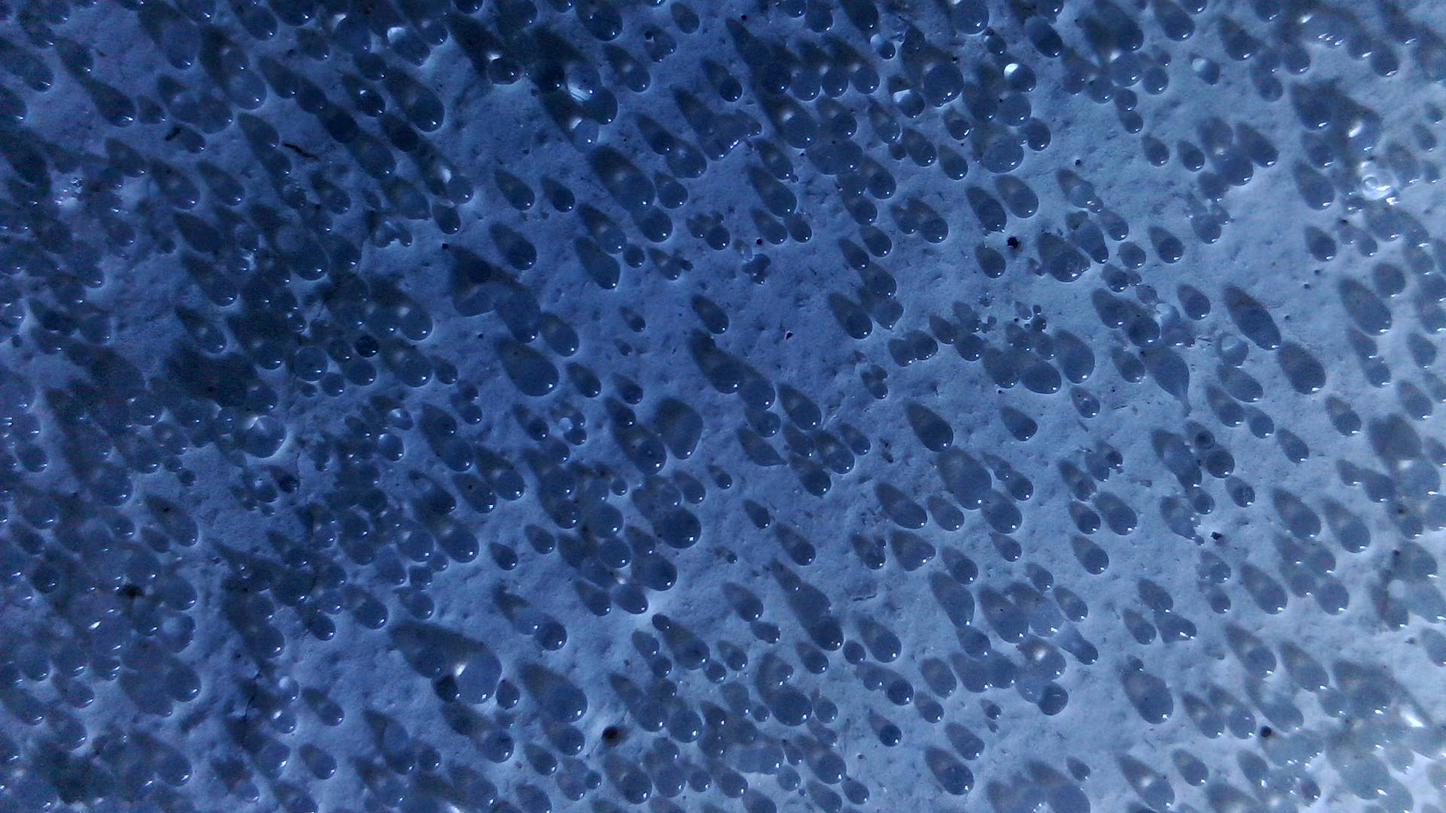GlassBeadSeg: (517, 358, 559, 396), (953, 467, 991, 507), (925, 66, 962, 105), (246, 419, 283, 458), (663, 512, 701, 549), (550, 687, 585, 722), (461, 668, 496, 703), (619, 176, 656, 209), (954, 0, 988, 35), (987, 140, 1023, 173), (443, 531, 480, 563), (96, 473, 132, 505), (633, 440, 667, 473), (409, 100, 444, 132), (233, 76, 268, 108), (785, 114, 817, 149), (404, 531, 438, 563), (1357, 767, 1389, 800), (278, 573, 311, 605), (294, 248, 328, 279), (1052, 251, 1086, 282), (1027, 364, 1062, 394), (990, 502, 1022, 534), (1141, 691, 1173, 723), (1410, 468, 1442, 500), (1361, 303, 1392, 336), (1063, 349, 1094, 382), (777, 695, 811, 725), (545, 470, 577, 501), (402, 309, 433, 340), (363, 148, 395, 178), (590, 11, 622, 41), (587, 94, 619, 124), (445, 443, 476, 473), (169, 671, 200, 701), (998, 611, 1028, 642), (400, 356, 432, 385), (592, 507, 624, 536), (294, 349, 326, 378), (672, 151, 706, 178), (1295, 364, 1325, 394), (1112, 57, 1142, 87), (1031, 605, 1061, 635), (254, 629, 285, 658), (922, 423, 953, 452), (600, 541, 631, 570), (670, 712, 701, 741), (1222, 157, 1253, 186), (678, 639, 709, 668), (358, 601, 389, 629), (129, 556, 160, 584), (895, 502, 927, 529), (1341, 524, 1370, 553), (944, 766, 973, 795), (816, 755, 845, 784), (162, 757, 191, 786), (416, 648, 445, 677), (484, 733, 514, 761), (26, 501, 56, 529), (260, 745, 288, 775), (255, 342, 286, 369), (25, 785, 56, 812), (97, 627, 128, 654), (551, 328, 580, 356), (792, 403, 821, 431), (536, 65, 565, 93), (831, 144, 860, 172), (762, 65, 791, 93), (850, 2, 879, 30), (4, 383, 33, 411), (166, 583, 196, 610), (642, 215, 673, 241), (744, 382, 775, 408), (1130, 318, 1158, 346), (1306, 181, 1334, 209), (1320, 586, 1348, 614), (1003, 96, 1031, 124), (508, 0, 536, 28), (508, 242, 537, 269), (538, 623, 567, 650), (623, 775, 652, 802), (249, 13, 278, 40), (209, 280, 239, 306), (980, 203, 1006, 233), (948, 598, 974, 628), (714, 367, 742, 394), (1011, 190, 1039, 217), (593, 261, 620, 289), (1258, 587, 1286, 614), (873, 634, 901, 661), (669, 432, 697, 459), (794, 72, 822, 99), (370, 307, 398, 334), (1165, 15, 1194, 41), (1226, 34, 1255, 60), (1009, 67, 1038, 93), (649, 563, 676, 590), (134, 447, 162, 473), (445, 178, 473, 204), (491, 59, 519, 85), (132, 398, 160, 424), (1036, 653, 1064, 679), (171, 184, 200, 209), (57, 649, 86, 674), (167, 44, 196, 69), (499, 473, 526, 499), (436, 208, 462, 235), (1292, 513, 1319, 539), (621, 588, 648, 614), (964, 666, 990, 693), (816, 623, 842, 650), (33, 568, 59, 595), (1040, 688, 1066, 715), (471, 781, 497, 808), (807, 8, 833, 35), (1414, 557, 1439, 585), (558, 729, 584, 755), (805, 471, 831, 497), (85, 318, 111, 344), (554, 504, 581, 529), (660, 769, 685, 796), (1251, 650, 1276, 677), (1148, 781, 1173, 808), (1384, 603, 1409, 630), (1326, 691, 1351, 718), (1278, 705, 1303, 732), (1313, 548, 1338, 575), (1361, 691, 1386, 718), (108, 102, 136, 126), (1250, 325, 1279, 348), (770, 190, 796, 215), (410, 594, 435, 620), (509, 186, 535, 211), (870, 173, 895, 199), (1111, 509, 1137, 534), (830, 114, 856, 139), (201, 328, 227, 353), (640, 706, 666, 731), (803, 595, 828, 621), (624, 68, 650, 93), (994, 361, 1018, 388), (1303, 105, 1330, 129), (1231, 711, 1255, 738), (181, 403, 208, 427), (85, 437, 112, 461), (828, 448, 853, 473), (938, 506, 963, 531), (1374, 53, 1399, 78), (1039, 33, 1064, 58), (350, 361, 376, 385), (1207, 453, 1233, 477), (661, 184, 687, 208), (855, 67, 879, 93), (26, 654, 50, 680), (332, 116, 358, 140), (993, 661, 1016, 688), (252, 128, 279, 151), (791, 542, 816, 566), (871, 273, 896, 297), (847, 314, 871, 339), (471, 489, 496, 513), (754, 413, 779, 437), (362, 57, 387, 81), (1144, 70, 1168, 95), (252, 388, 276, 413), (62, 723, 86, 748), (249, 598, 274, 622), (224, 50, 249, 74), (904, 544, 929, 568), (218, 183, 244, 206), (68, 53, 94, 76), (208, 105, 234, 128), (0, 101, 26, 124), (1159, 239, 1183, 263), (24, 449, 48, 473), (302, 89, 326, 113), (1285, 49, 1309, 73), (1261, 78, 1285, 102), (1348, 34, 1372, 58), (1258, 49, 1282, 73), (1395, 22, 1419, 46), (1257, 0, 1281, 24), (584, 482, 608, 506), (1085, 549, 1108, 574), (953, 561, 978, 584), (588, 592, 613, 615), (311, 616, 336, 639), (922, 219, 947, 242), (1252, 144, 1277, 167), (245, 285, 270, 308), (1070, 183, 1095, 206), (516, 610, 541, 633), (408, 566, 433, 589), (313, 755, 337, 778), (944, 156, 968, 179), (362, 93, 385, 117), (1012, 418, 1036, 441), (1187, 296, 1210, 320), (336, 245, 359, 269), (328, 190, 351, 214), (877, 303, 900, 327), (965, 632, 988, 656), (889, 681, 912, 705), (23, 702, 47, 725), (1201, 715, 1225, 738), (1303, 667, 1326, 691), (197, 231, 221, 254), (381, 784, 404, 808), (438, 677, 461, 701), (287, 0, 310, 24), (349, 31, 372, 55), (1027, 126, 1049, 151), (0, 251, 25, 273), (1122, 359, 1145, 382), (1123, 246, 1146, 269), (1198, 220, 1221, 243), (960, 338, 983, 361), (933, 672, 956, 695), (276, 291, 299, 314), (426, 24, 449, 47), (515, 320, 538, 343), (1078, 511, 1100, 535), (578, 375, 602, 397), (1011, 477, 1033, 501), (273, 711, 297, 733), (1185, 762, 1207, 786), (1203, 176, 1225, 200), (1338, 413, 1360, 437), (62, 285, 86, 307), (722, 775, 746, 797), (2, 305, 26, 327), (706, 138, 728, 162), (1283, 544, 1307, 566), (227, 254, 252, 275), (552, 189, 575, 211), (1252, 416, 1274, 439), (1310, 145, 1333, 167), (269, 154, 291, 177), (177, 523, 199, 546), (384, 563, 407, 585), (826, 72, 848, 95), (1368, 480, 1390, 503), (32, 28, 55, 50), (31, 69, 53, 92), (48, 1, 70, 24), (604, 230, 627, 252), (653, 132, 675, 155), (697, 111, 719, 134), (1411, 253, 1434, 275), (1423, 282, 1446, 304), (1423, 310, 1446, 332), (352, 544, 375, 566), (346, 516, 369, 538), (90, 534, 112, 557), (80, 609, 102, 632), (1207, 135, 1230, 157), (1384, 273, 1405, 297), (706, 312, 728, 334), (382, 439, 404, 461), (913, 144, 935, 166), (331, 343, 353, 365), (347, 283, 369, 305), (902, 95, 924, 117), (974, 99, 996, 121), (1121, 27, 1143, 49), (915, 337, 937, 359), (322, 592, 344, 614), (323, 565, 345, 587), (314, 525, 336, 547), (435, 492, 457, 514), (380, 508, 402, 530), (880, 724, 901, 747), (1312, 239, 1335, 260), (961, 738, 984, 759), (419, 749, 440, 772), (740, 598, 761, 621), (499, 685, 520, 708), (689, 771, 712, 792), (356, 464, 379, 485), (893, 343, 914, 366), (137, 614, 160, 635), (131, 766, 154, 787), (762, 750, 785, 771), (856, 202, 877, 224), (984, 255, 1005, 277), (869, 234, 891, 255), (1234, 485, 1255, 507), (73, 687, 95, 708), (847, 782, 868, 804), (816, 701, 837, 723), (864, 669, 886, 690), (112, 226, 134, 247), (310, 213, 332, 234), (167, 435, 188, 457), (703, 735, 725, 756), (185, 133, 207, 154), (285, 314, 307, 335), (271, 265, 293, 286), (310, 40, 332, 61), (948, 117, 970, 138), (1092, 81, 1113, 103), (1411, 398, 1432, 420), (1037, 338, 1059, 359), (661, 486, 682, 508), (192, 3, 214, 24), (97, 658, 120, 678), (1222, 406, 1243, 427), (721, 81, 742, 102), (685, 483, 706, 504), (1185, 151, 1206, 172), (17, 416, 38, 437), (343, 308, 364, 329), (100, 196, 121, 217), (289, 188, 310, 209), (878, 120, 899, 141), (1357, 341, 1378, 362), (1105, 306, 1126, 327), (535, 754, 557, 774), (322, 705, 344, 725), (1066, 600, 1088, 620), (1402, 517, 1422, 539), (765, 224, 787, 244), (1376, 219, 1398, 239), (43, 335, 65, 355), (10, 214, 32, 234), (276, 80, 298, 100), (1242, 382, 1264, 402), (64, 405, 86, 425), (393, 755, 415, 775), (277, 681, 299, 701), (236, 783, 259, 802), (1392, 789, 1411, 812), (529, 420, 550, 440), (807, 653, 827, 674), (664, 261, 685, 281), (1194, 495, 1214, 516), (1249, 765, 1269, 786), (124, 157, 145, 177), (1033, 572, 1054, 592), (1169, 620, 1190, 640), (680, 11, 700, 32), (83, 269, 105, 288), (14, 583, 33, 605), (1288, 442, 1308, 462), (1109, 272, 1129, 292), (1075, 481, 1095, 501), (653, 657, 672, 678), (792, 220, 811, 241), (115, 518, 134, 539), (286, 549, 307, 568), (1181, 469, 1200, 490), (637, 536, 656, 557), (281, 472, 300, 493), (5, 666, 24, 687), (497, 550, 517, 569), (438, 364, 457, 384), (1370, 367, 1390, 386), (567, 427, 587, 446), (708, 230, 728, 249), (1149, 146, 1168, 166), (781, 771, 800, 791), (1210, 565, 1229, 585), (846, 643, 864, 664), (1154, 592, 1172, 613), (78, 574, 96, 595), (922, 703, 941, 722), (1136, 625, 1155, 644), (360, 338, 379, 357), (566, 781, 585, 800), (865, 550, 884, 569), (1002, 542, 1020, 562), (616, 410, 636, 428), (1080, 399, 1098, 419), (536, 533, 554, 553), (707, 664, 727, 682), (1197, 429, 1215, 449), (1015, 334, 1033, 354), (939, 325, 957, 345), (775, 160, 793, 179), (1118, 93, 1136, 112), (325, 377, 344, 395), (259, 485, 277, 504), (1072, 763, 1091, 781), (99, 598, 117, 617), (1213, 594, 1230, 614), (1080, 644, 1097, 664), (730, 651, 747, 671), (1417, 349, 1434, 369), (1367, 731, 1384, 751), (1276, 747, 1293, 767), (752, 705, 770, 723), (1359, 239, 1377, 257), (659, 36, 677, 54), (787, 0, 805, 18), (1110, 221, 1127, 240), (1295, 577, 1312, 596), (1125, 114, 1142, 133), (1419, 133, 1436, 152), (1424, 165, 1441, 184), (1341, 225, 1358, 244), (1411, 229, 1428, 248), (1343, 467, 1360, 486), (1304, 783, 1321, 802), (1397, 751, 1414, 770), (901, 215, 918, 233), (627, 249, 645, 266), (1092, 246, 1109, 264), (854, 437, 871, 455), (798, 439, 815, 457), (848, 179, 865, 197), (878, 43, 895, 61), (990, 39, 1007, 57), (776, 664, 794, 681), (739, 726, 757, 743), (551, 447, 569, 464), (754, 510, 770, 529), (852, 250, 868, 269), (787, 747, 804, 764), (466, 407, 482, 425), (151, 106, 167, 124), (108, 172, 124, 190), (710, 711, 728, 727), (659, 684, 677, 700), (643, 639, 661, 655), (784, 576, 802, 592), (625, 386, 643, 402), (432, 556, 450, 572), (734, 698, 751, 714), (662, 744, 679, 760), (821, 732, 838, 748), (654, 615, 671, 631), (763, 627, 780, 643), (612, 480, 628, 496), (464, 386, 480, 402), (340, 444, 356, 460), (717, 473, 732, 490), (586, 772, 602, 787), (441, 420, 457, 435), (966, 318, 981, 333), (1109, 454, 1124, 469), (1094, 467, 1110, 481), (996, 466, 1012, 480), (987, 704, 1001, 719), (1090, 199, 1105, 213), (692, 225, 707, 238), (873, 385, 887, 398), (245, 498, 258, 511), (262, 505, 275, 518), (183, 473, 196, 486), (169, 459, 182, 472), (108, 581, 121, 594), (109, 568, 122, 581), (160, 703, 173, 716), (632, 318, 645, 331), (220, 409, 233, 422), (304, 385, 317, 398), (323, 512, 336, 525), (235, 560, 247, 572), (1159, 53, 1170, 65), (1070, 82, 1081, 94), (989, 723, 1000, 735), (503, 717, 514, 729), (1219, 214, 1230, 226), (1021, 309, 1032, 320), (1036, 320, 1047, 331), (1131, 275, 1142, 286), (1185, 336, 1196, 347), (727, 553, 738, 564), (361, 427, 372, 438), (1075, 71, 1086, 82), (1132, 662, 1143, 673), (247, 241, 258, 252), (877, 539, 888, 549), (622, 346, 632, 357), (751, 124, 762, 134), (654, 52, 664, 63), (575, 416, 585, 426), (755, 274, 765, 284), (895, 148, 905, 158), (402, 236, 412, 246)
